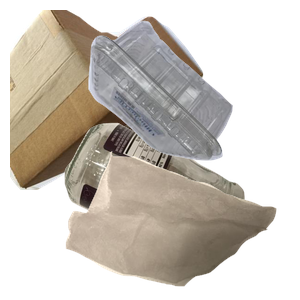cardboard: (10, 10, 206, 190)
glass: (62, 120, 300, 300)
plastic: (86, 18, 300, 171)
trash: (63, 149, 300, 300)
